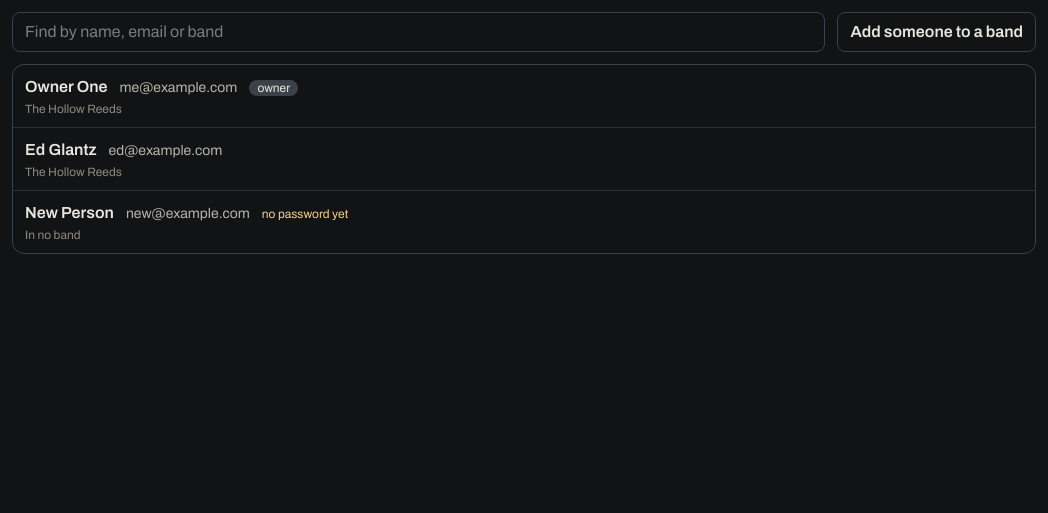
OwnerPeople › deletes someone after a second click, and shows a refusal
Click the button "Ed Glantz ed@example.com The Hollow Reeds". click: (61, 150)
box: [25, 138, 1023, 180]
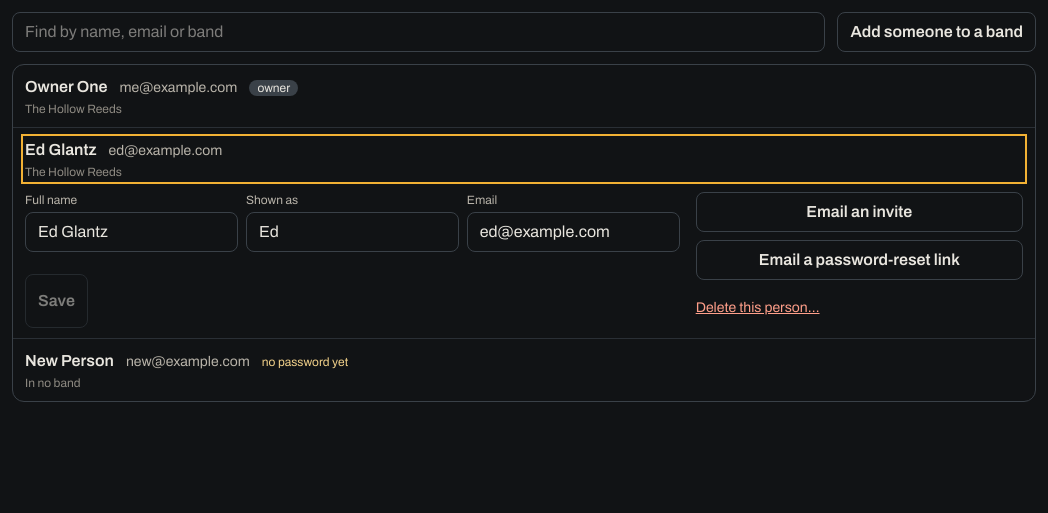
Click the button "Delete this person…". click: (758, 308)
box: [696, 288, 1023, 328]
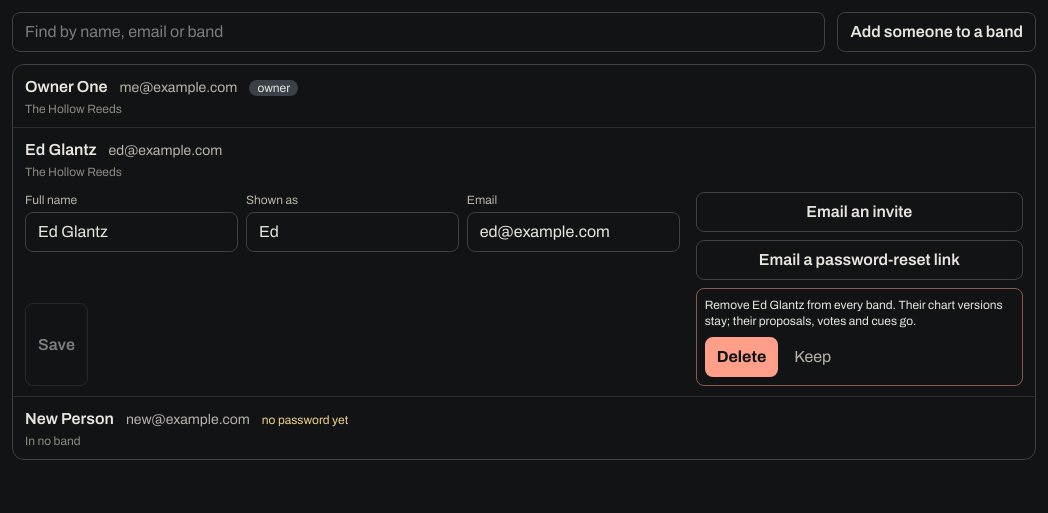
Click the button "Keep". click: (813, 357)
box: [786, 337, 839, 377]
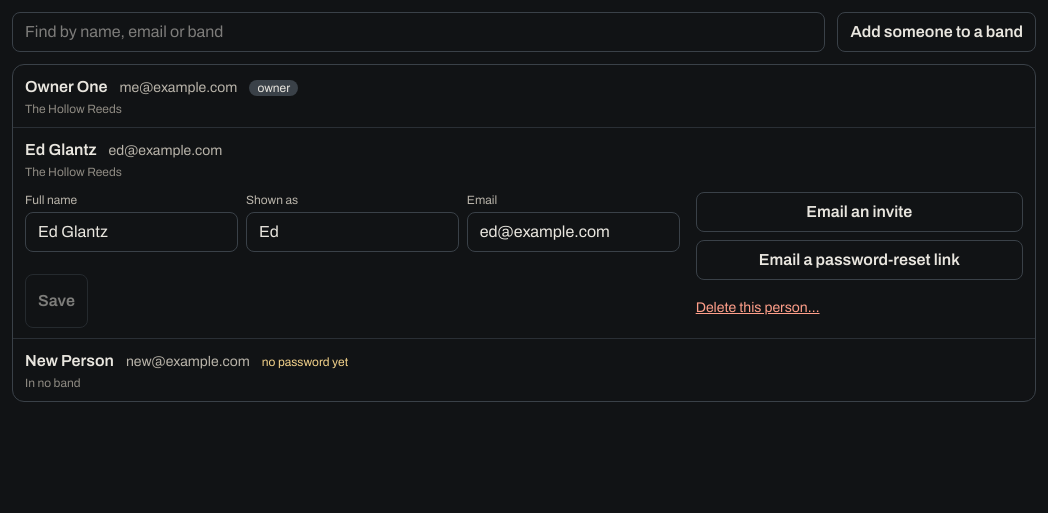
Click the button "Delete this person…". click: (758, 308)
box: [696, 288, 1023, 328]
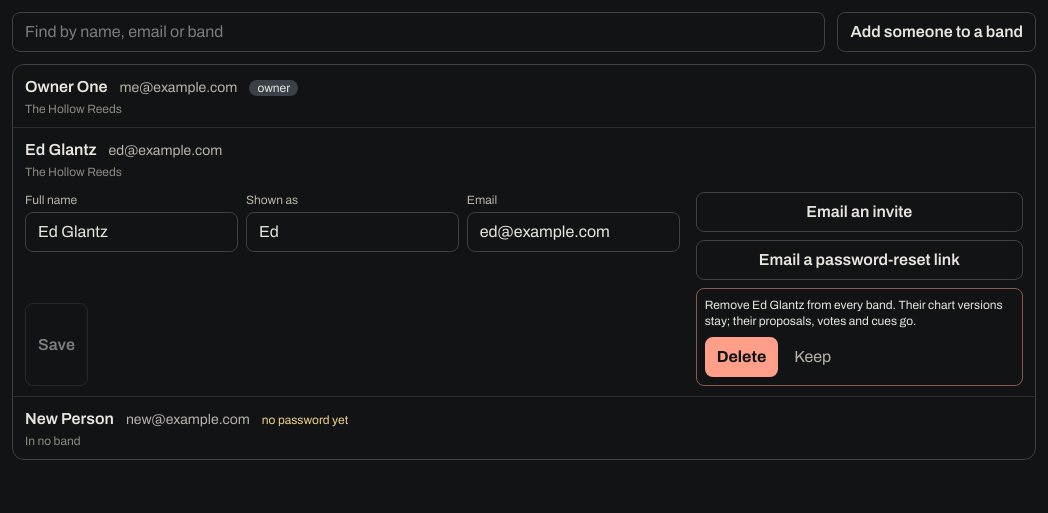
Click the button "Delete". click: (742, 357)
box: [705, 337, 778, 377]
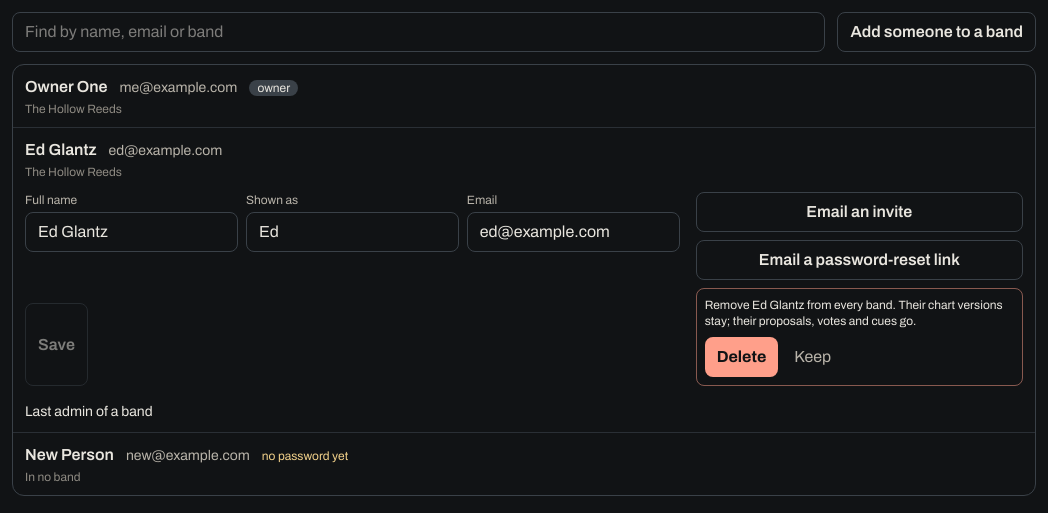
Now the message reads "Last admin of a band", box [25, 404, 153, 419]
